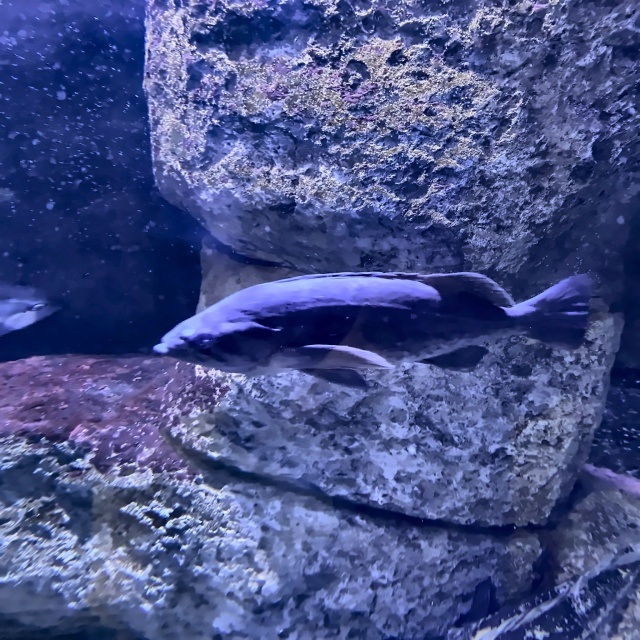fish: (155, 272, 592, 387), (0, 282, 60, 335)
